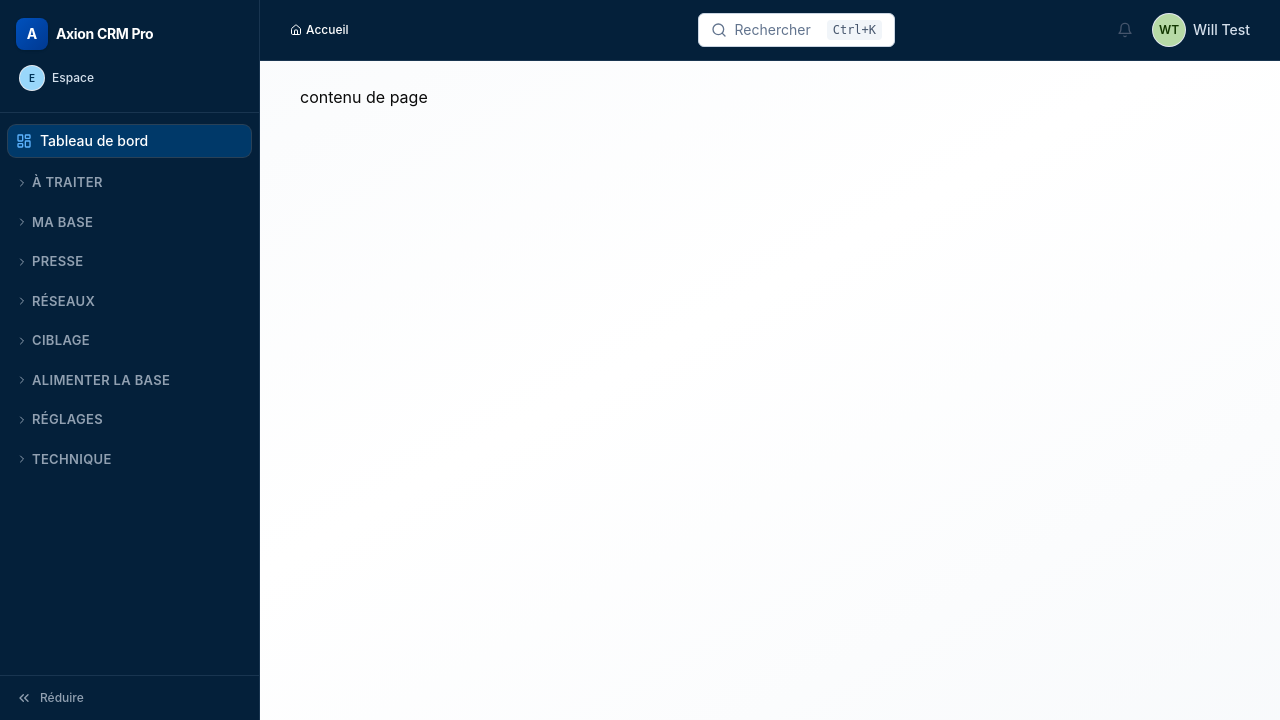
D24-002 — la cloche de l’en-tete ouvre un panneau reel › 200 avec `degraded` : la liste est vide, l’ecran ne conclut PAS a l’absence
Click the button named "Notifications" at (1125, 30), box [1111,16,1139,44]
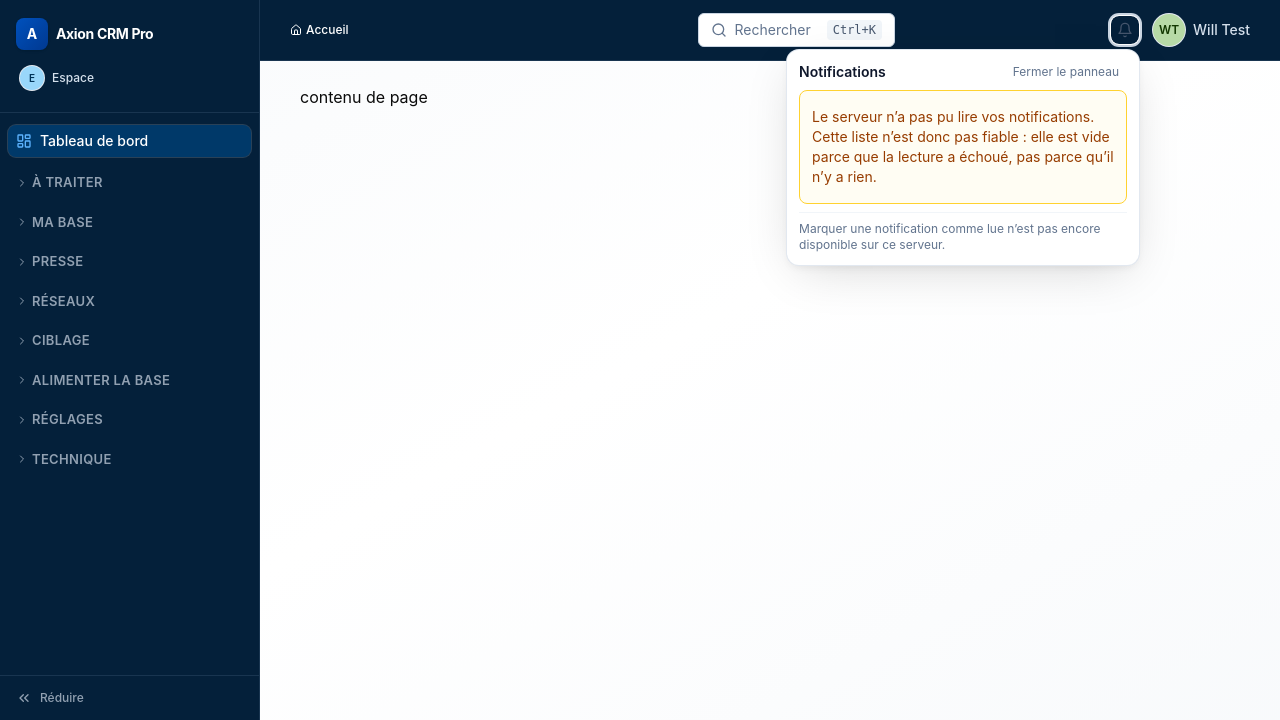
Now the text "pas pu lire" is shown, box [812,108,1114,185]
